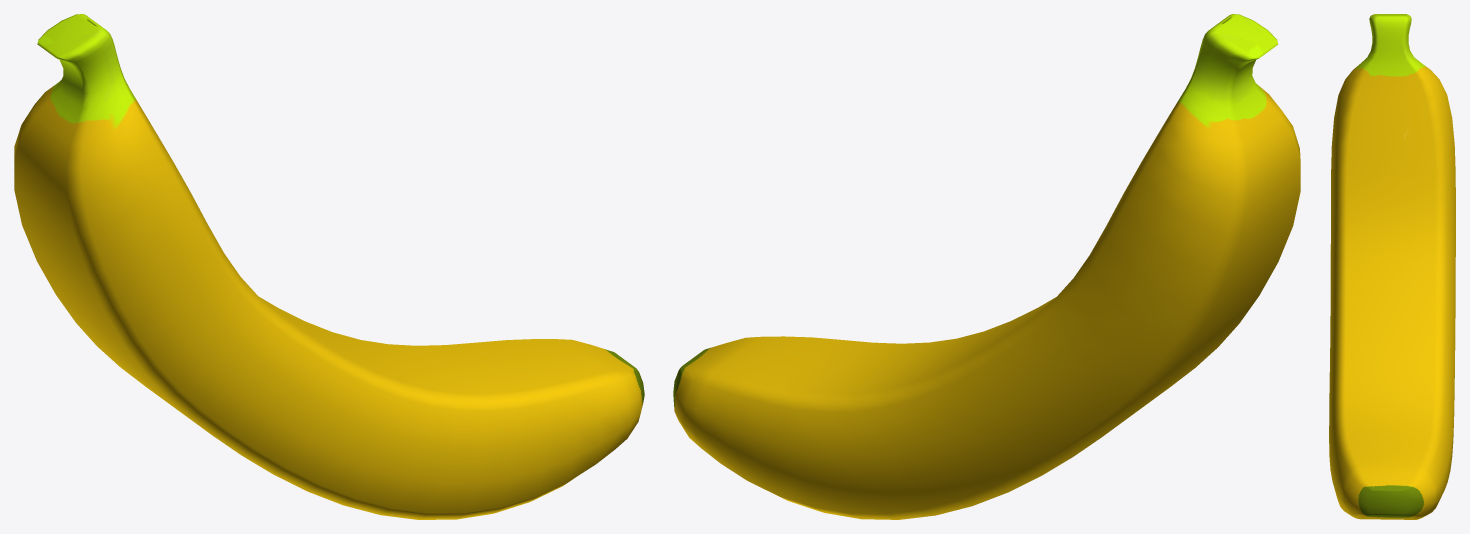
File: Banana.fbx
The picture shows the model from 3 angles, left to right: view 1: azimuth 30°, elevation 25°; view 2: azimuth 150°, elevation 25°; view 3: azimuth 270°, elevation 25°; orthographic projection. The views are drawn at different scales.
Visible parts, largest first — view 1: BananaH.001; view 2: BananaH.001; view 3: BananaH.001.
Part boxes in pixels (left/top/right/bottom): BananaH.001: left=14, top=14, right=644, bottom=519; BananaH.001: left=673, top=14, right=1300, bottom=519; BananaH.001: left=1329, top=14, right=1455, bottom=519.
Size of the model in its own units: 610 by 554 by 175.
